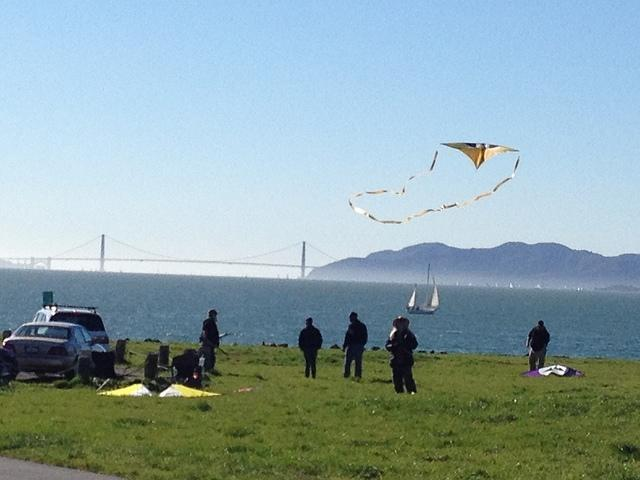car: (2, 320, 108, 383), (32, 303, 112, 354)
